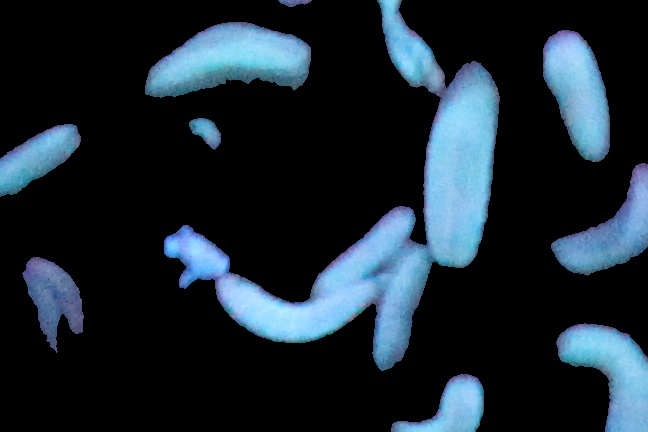larvae: (424, 63, 495, 272), (139, 24, 312, 94), (547, 170, 645, 276), (218, 278, 381, 338), (306, 207, 414, 297), (558, 323, 648, 428), (543, 32, 610, 169), (366, 247, 429, 369), (1, 119, 85, 201), (389, 372, 485, 432)
